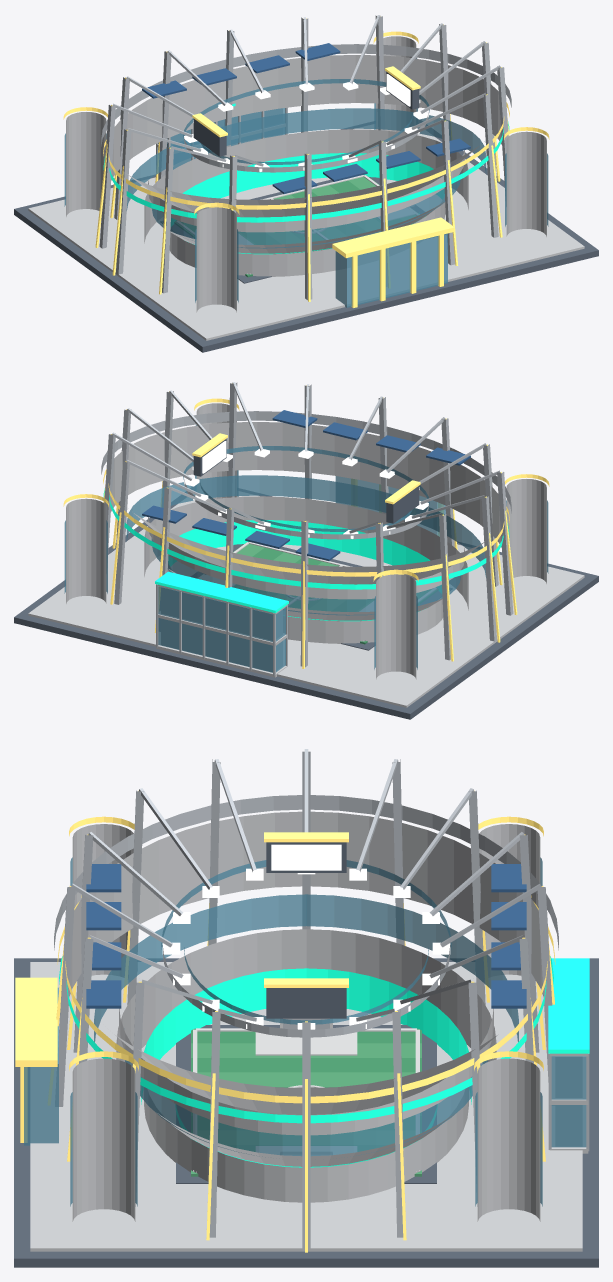
File: stadium_main.master.glb
The picture shows the model from 3 angles, top to bottom: view 1: azimuth 30°, elevation 25°; view 2: azimuth 150°, elevation 25°; view 3: azimuth 270°, elevation 25°; orthographic projection. The views are drawn at different scales.
Visible parts, largest first — view 1: stadium_main_master; view 2: stadium_main_master; view 3: stadium_main_master.
Boxes of the visible parts, x1,y1,x2,y2 form: stadium_main_master: (14,15,598,352); stadium_main_master: (14,382,598,719); stadium_main_master: (14,749,598,1267).
Bounding box in the file's own units: 5.68 × 2.06 × 4.68.
